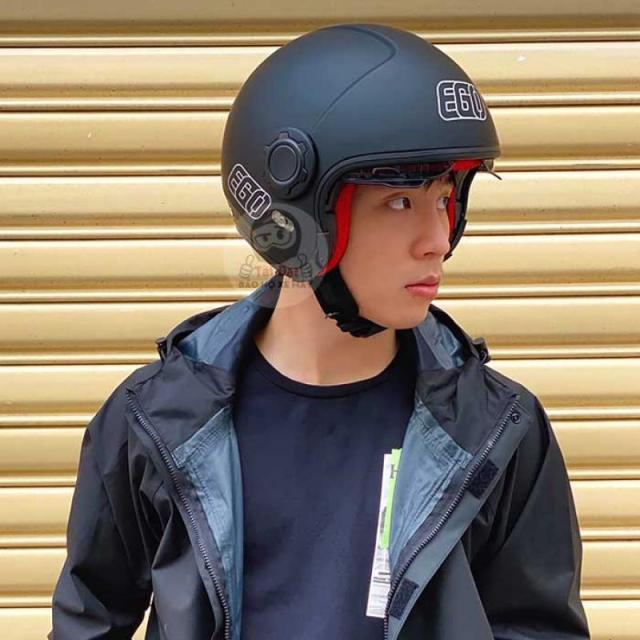helmet: (215, 16, 509, 346)
